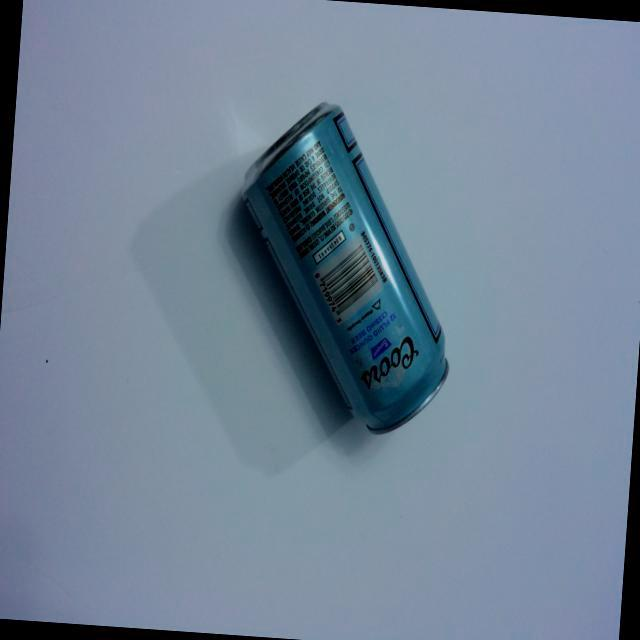metal: (218, 88, 477, 480)
